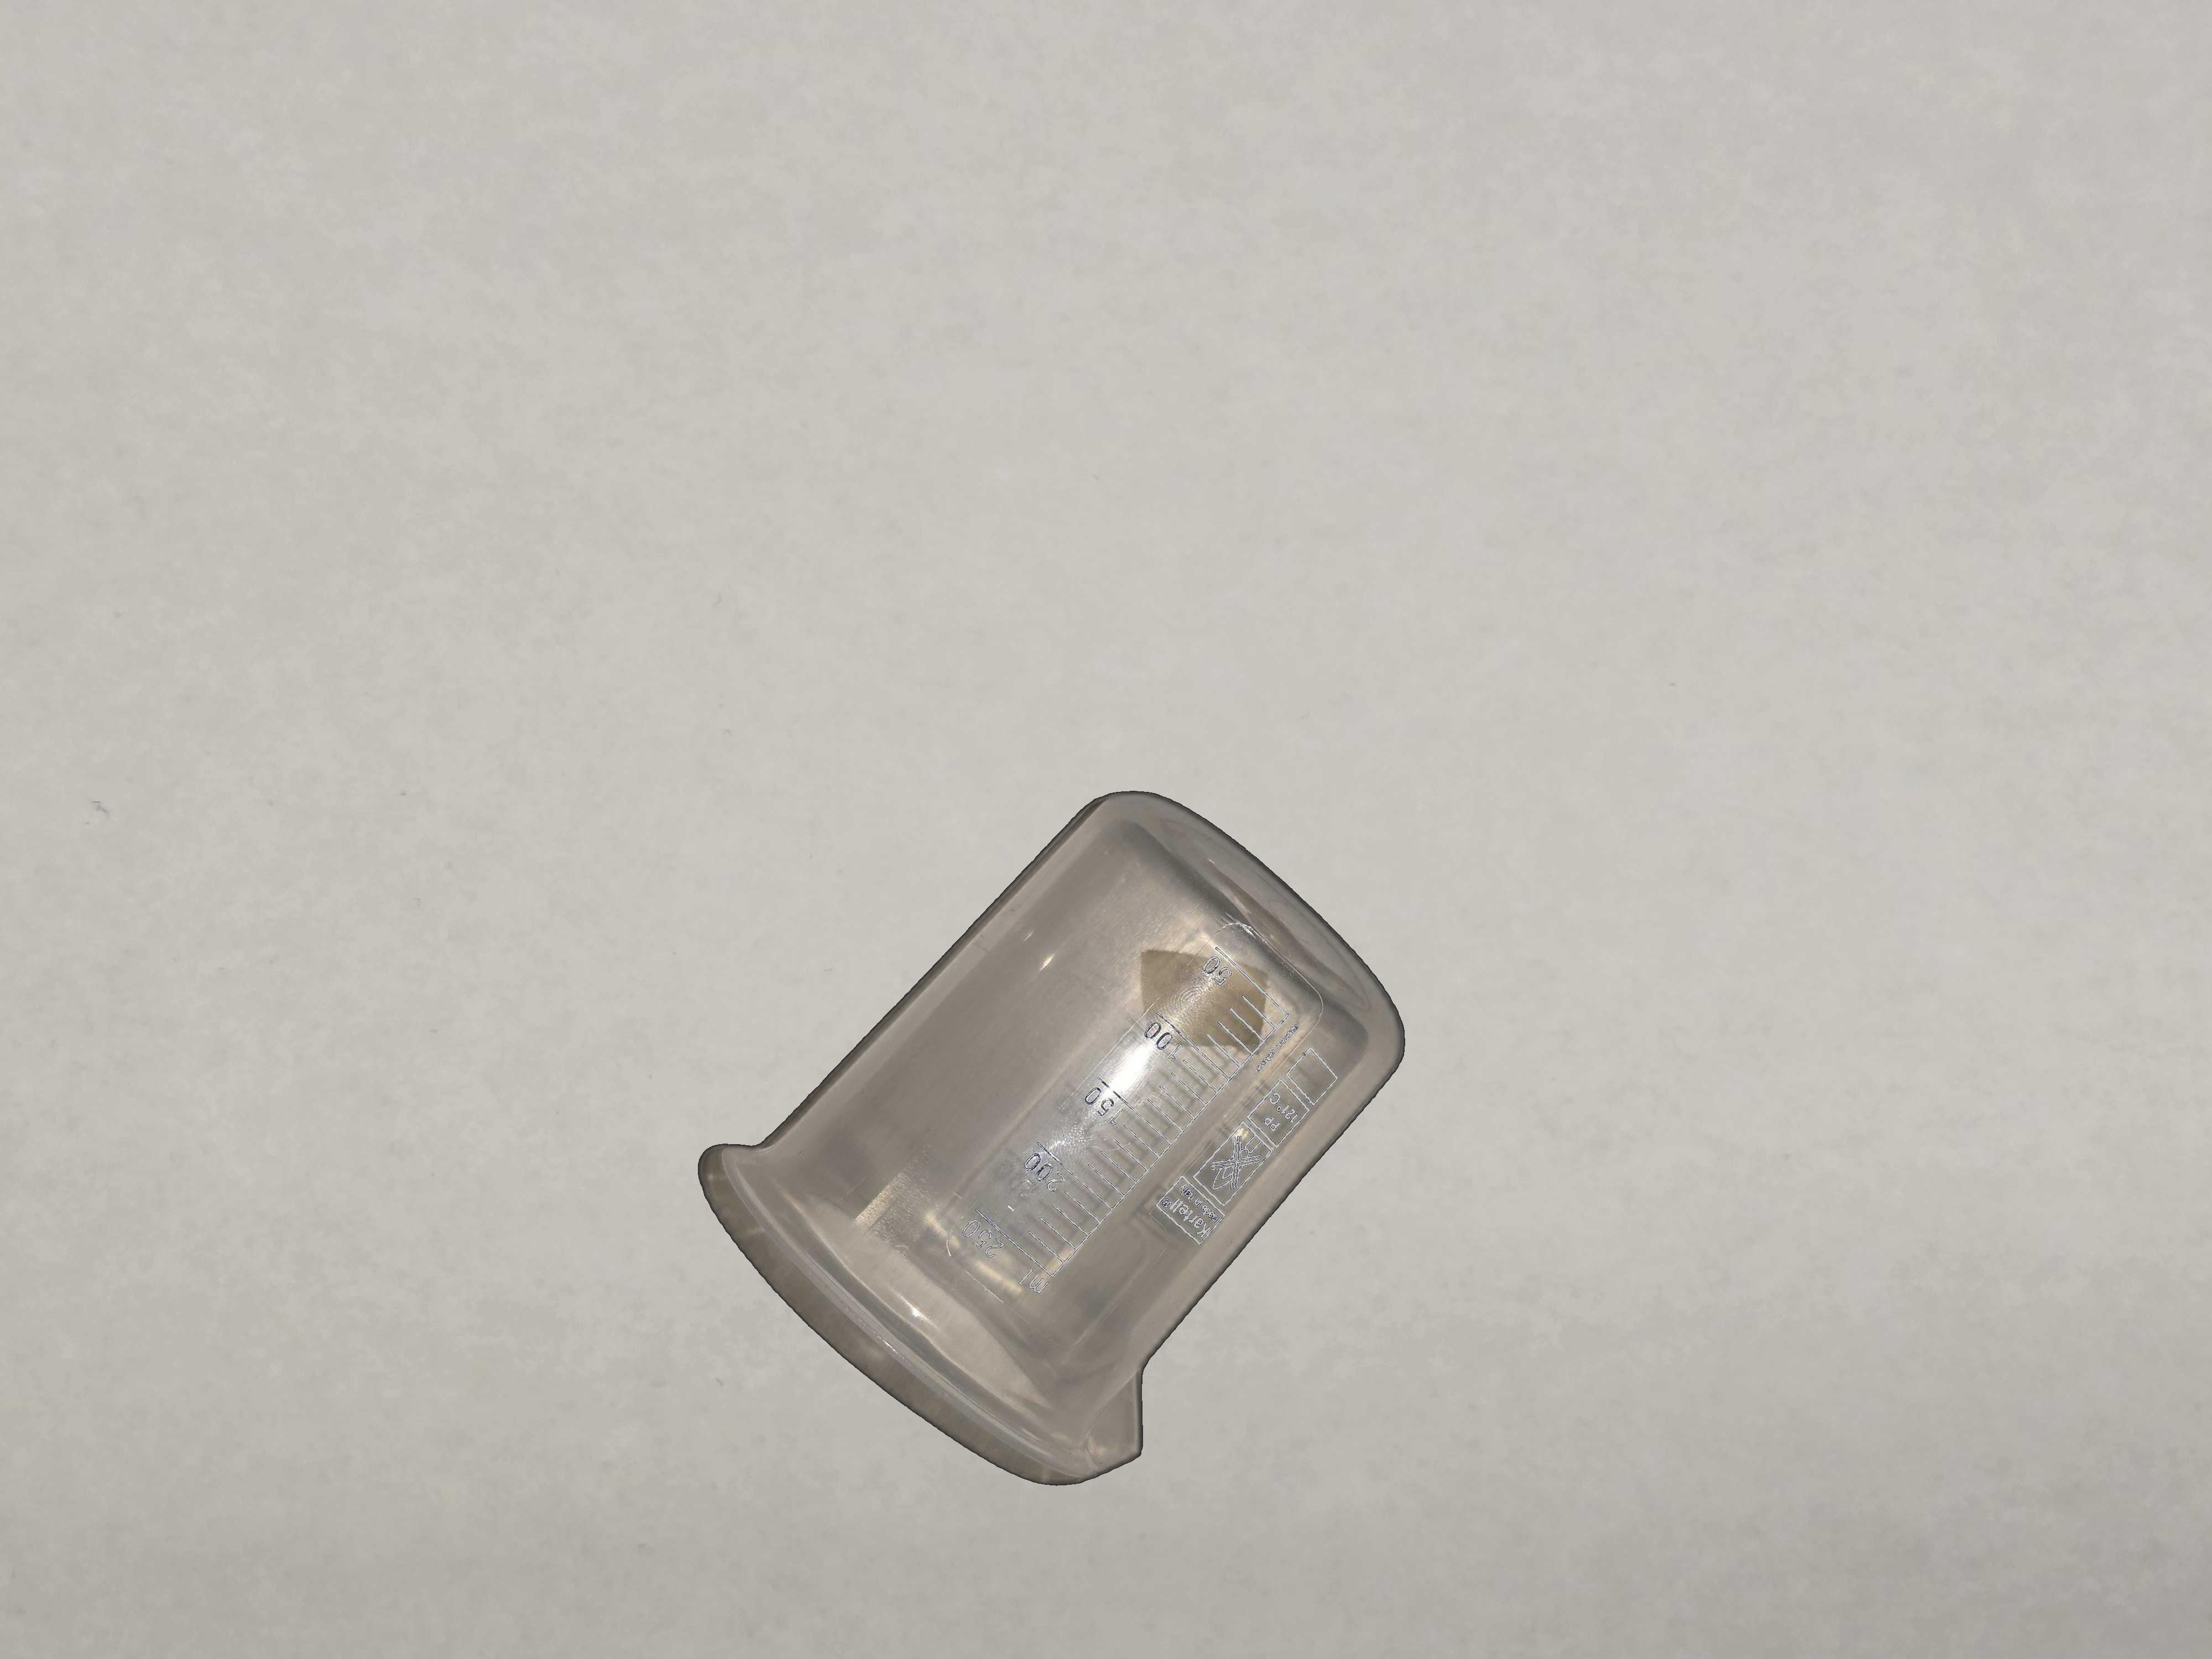becker: (693, 786, 1407, 1492)
